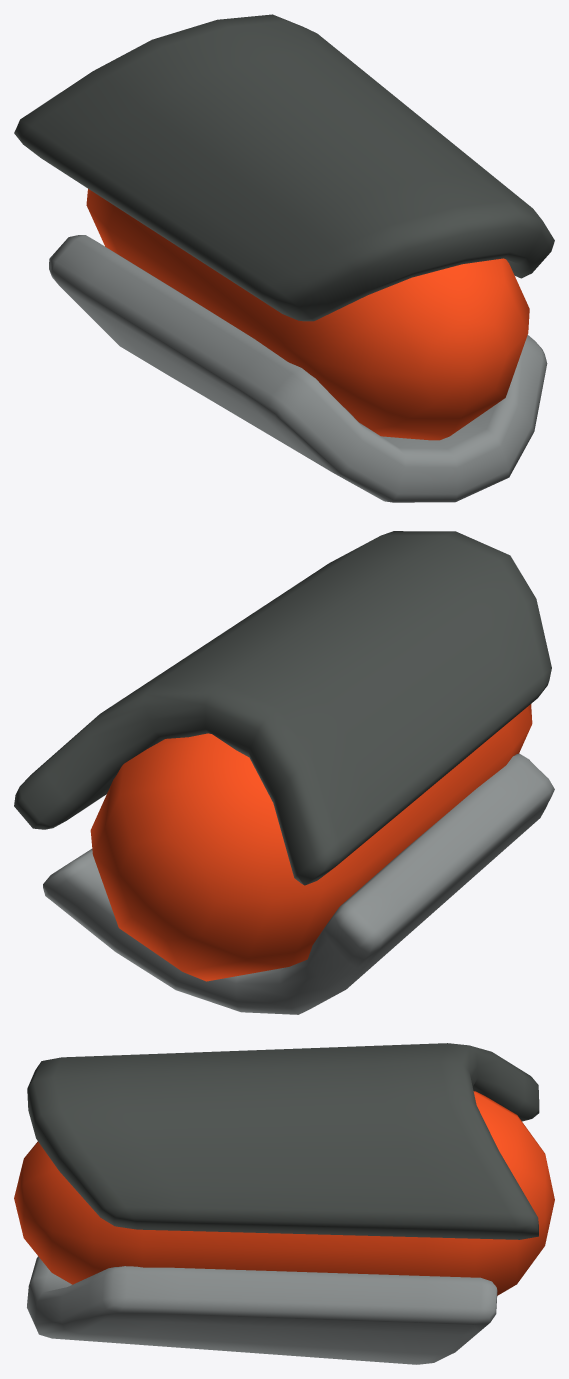
File: xsens_RightThirdMP.dae
The picture shows the model from 3 angles, top to bottom: view 1: azimuth 30°, elevation 25°; view 2: azimuth 150°, elevation 25°; view 3: azimuth 270°, elevation 25°; orthographic projection. The views are drawn at different scales.
Visible parts, largest first — view 1: RightThirdMP; view 2: RightThirdMP; view 3: RightThirdMP.
Part boxes in pixels (x1,y1,x2,y2): RightThirdMP: [14, 14, 554, 502]; RightThirdMP: [14, 531, 554, 1014]; RightThirdMP: [14, 1043, 554, 1364].
Size of the model in its own units: 0.0185 by 0.0307 by 0.0182.
